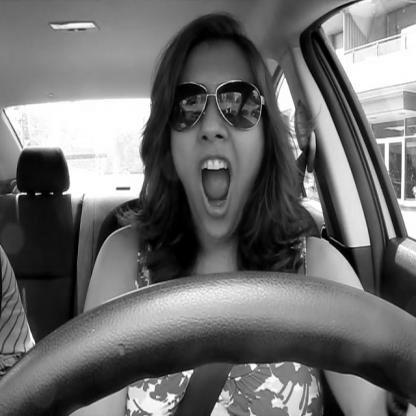seatbelt: (151, 0, 320, 416)
